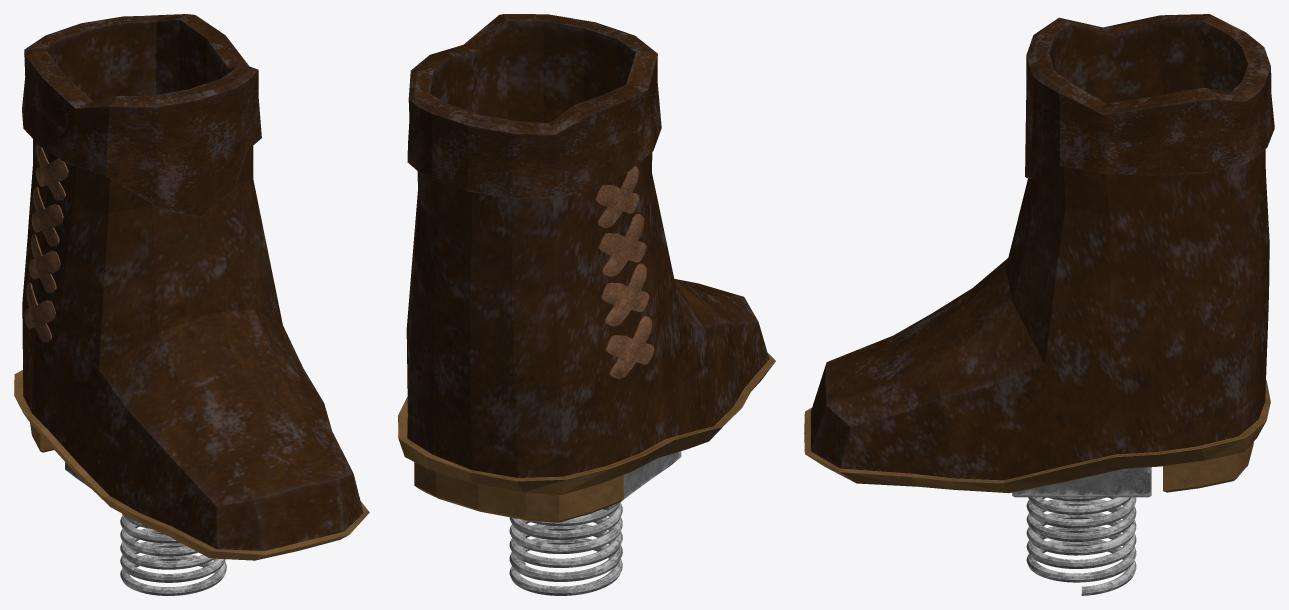
The model's file is ITM_UTILITY_SPRING SHOE.fbx.
3 views of the same model, side by side, from view 1: azimuth 30°, elevation 25°; view 2: azimuth 150°, elevation 25°; view 3: azimuth 270°, elevation 25° (orthographic). The views are drawn at different scales.
Visible parts, largest first — view 1: shoe, spring, button3, button2, button1, button; view 2: shoe, spring, button, button1, button3, button2, bottom_of_shoe; view 3: shoe, spring, bottom_of_shoe.
Part boxes in pixels (<box>): shoe: <box>14,14,369,560</box>; spring: <box>120,513,226,595</box>; button3: <box>31,187,63,246</box>; button2: <box>36,143,68,200</box>; button1: <box>29,233,60,293</box>; button: <box>24,283,55,342</box>; shoe: <box>398,14,775,522</box>; spring: <box>509,501,622,595</box>; button: <box>605,316,654,378</box>; button1: <box>601,263,649,326</box>; button3: <box>598,214,646,276</box>; button2: <box>595,166,639,228</box>; bottom_of_shoe: <box>602,451,681,510</box>; shoe: <box>804,14,1274,493</box>; spring: <box>1026,497,1136,595</box>; bottom_of_shoe: <box>1012,467,1151,497</box>.
Size of the model in its own units: 41.62 by 85.86 by 70.25.
